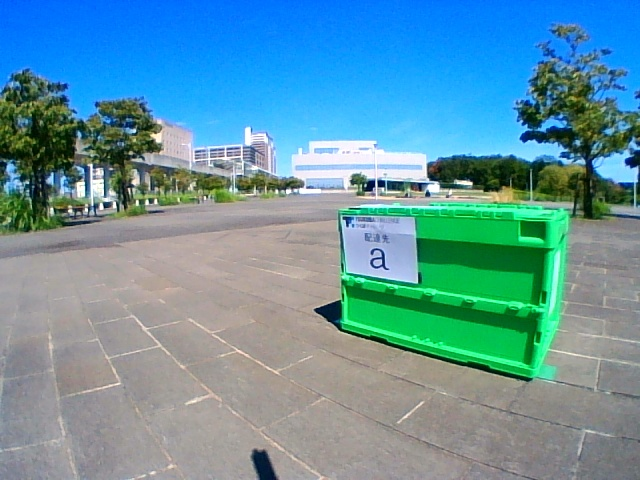green_box: (339, 203, 569, 379)
tag_a: (353, 227, 406, 274)
